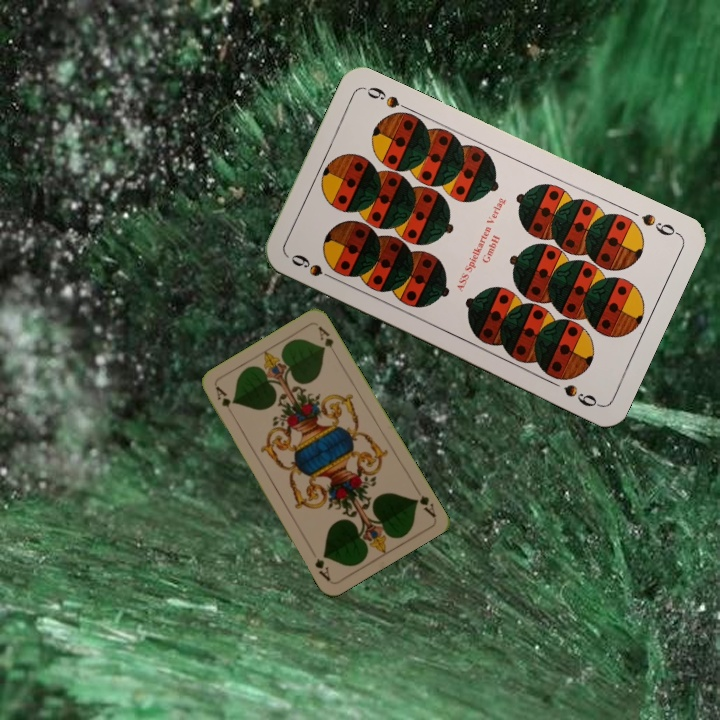GA: (410, 483, 438, 520), (211, 382, 233, 410)
S9: (286, 250, 341, 284), (637, 209, 682, 239)
